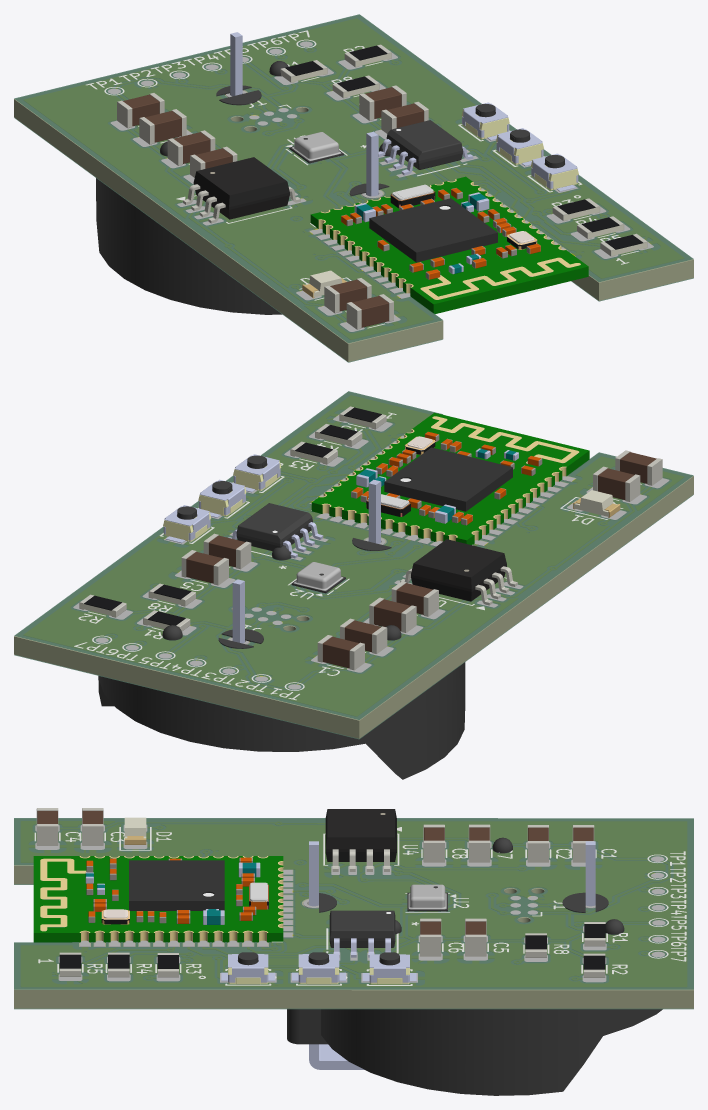
File: minty-sniffle-pcba.glb
3 renders of one model, top to bottom at view 1: azimuth 30°, elevation 25°; view 2: azimuth 150°, elevation 25°; view 3: azimuth 270°, elevation 25°, orthographic.
Visible parts, largest first — view 1: =>[0:1:1:29], =>[0:1:1:24], =>[0:1:1:7], =>[0:1:1:31], =>[0:1:1:21], =>[0:1:1:5] (×8), =>[0:1:1:11], =>[0:1:1:25], =>[0:1:1:3] (×6), =>[0:1:1:9] (×3), =>[0:1:1:13], =>[0:1:1:27] (+3 smaller); view 2: =>[0:1:1:29], =>[0:1:1:24], =>[0:1:1:31], =>[0:1:1:7], =>[0:1:1:21], =>[0:1:1:5] (×8), =>[0:1:1:25], =>[0:1:1:11], =>[0:1:1:3] (×6), =>[0:1:1:9] (×3), =>[0:1:1:13], =>[0:1:1:27] (+3 smaller); view 3: =>[0:1:1:29], =>[0:1:1:24], =>[0:1:1:21], =>[0:1:1:31], =>[0:1:1:7], =>[0:1:1:5] (×8), =>[0:1:1:25], =>[0:1:1:9] (×3), =>[0:1:1:27], =>[0:1:1:11], =>[0:1:1:3] (×6), =>[0:1:1:13] (+3 smaller).
Boxes of the visible parts, left/top/right/bottom form: =>[0:1:1:29]: left=14, top=14, right=693, bottom=343; =>[0:1:1:24]: left=24, top=19, right=683, bottom=339; =>[0:1:1:7]: left=310, top=176, right=588, bottom=313; =>[0:1:1:31]: left=14, top=15, right=693, bottom=361; =>[0:1:1:21]: left=96, top=32, right=397, bottom=314; =>[0:1:1:5] (×8): left=117, top=85, right=428, bottom=329; =>[0:1:1:11]: left=183, top=157, right=300, bottom=223; =>[0:1:1:25]: left=108, top=41, right=653, bottom=331; =>[0:1:1:3] (×6): left=280, top=44, right=647, bottom=256; =>[0:1:1:9] (×3): left=461, top=102, right=578, bottom=191; =>[0:1:1:13]: left=378, top=120, right=473, bottom=175; =>[0:1:1:27]: left=86, top=30, right=638, bottom=328; =>[0:1:1:29]: left=14, top=391, right=693, bottom=719; =>[0:1:1:24]: left=24, top=396, right=683, bottom=715; =>[0:1:1:31]: left=14, top=392, right=693, bottom=738; =>[0:1:1:7]: left=311, top=412, right=589, bottom=544; =>[0:1:1:21]: left=98, top=479, right=465, bottom=779; =>[0:1:1:5] (×8): left=181, top=450, right=662, bottom=670; =>[0:1:1:25]: left=73, top=415, right=669, bottom=689; =>[0:1:1:11]: left=400, top=539, right=517, bottom=605; =>[0:1:1:3] (×6): left=79, top=406, right=386, bottom=631; =>[0:1:1:9] (×3): left=163, top=454, right=281, bottom=543; =>[0:1:1:13]: left=228, top=503, right=323, bottom=558; =>[0:1:1:27]: left=74, top=412, right=641, bottom=700; =>[0:1:1:29]: left=14, top=818, right=693, bottom=989; =>[0:1:1:24]: left=21, top=821, right=686, bottom=986; =>[0:1:1:21]: left=287, top=837, right=662, bottom=1095; =>[0:1:1:31]: left=14, top=819, right=693, bottom=1008; =>[0:1:1:7]: left=33, top=856, right=283, bottom=942; =>[0:1:1:5] (×8): left=36, top=808, right=594, bottom=956; =>[0:1:1:25]: left=35, top=825, right=665, bottom=982; =>[0:1:1:9] (×3): left=221, top=952, right=416, bottom=984; =>[0:1:1:27]: left=34, top=827, right=686, bottom=985; =>[0:1:1:11]: left=325, top=809, right=396, bottom=871; =>[0:1:1:3] (×6): left=59, top=922, right=605, bottom=977; =>[0:1:1:13]: left=329, top=910, right=395, bottom=957.
Bounding box in the file's own units: 0.0301 × 0.0178 × 0.0504.
